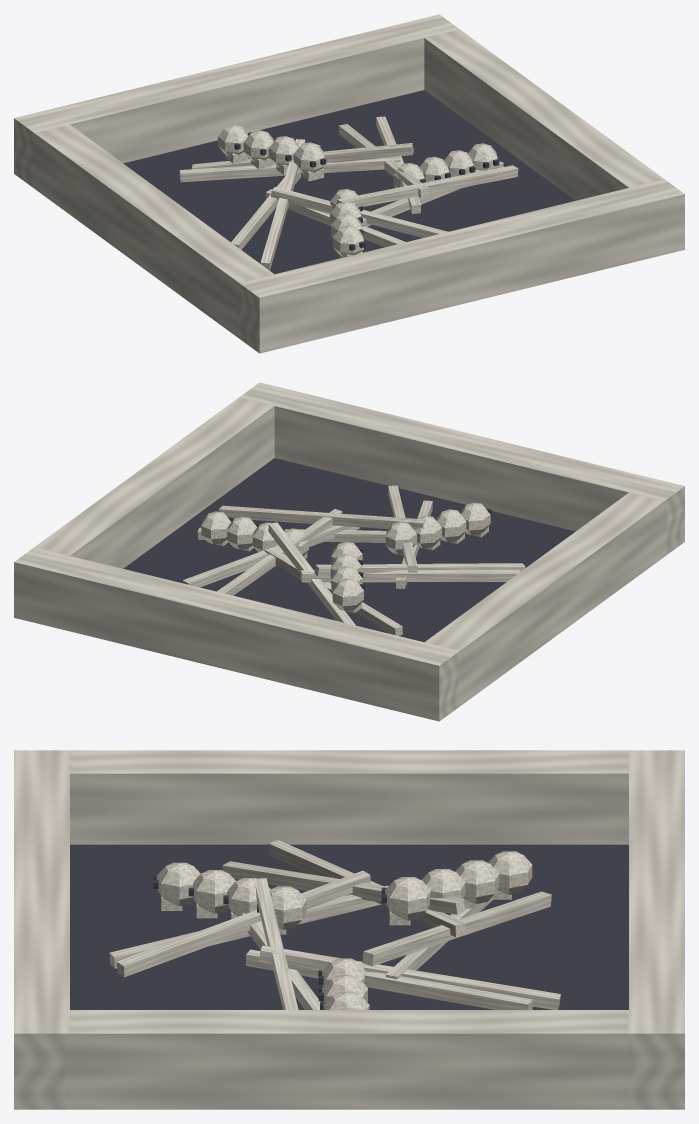
File: vampire-crypt-and-gothic-cathedral-ossuary-pit-15668b09__22998.glb
The picture shows the model from 3 angles, top to bottom: view 1: azimuth 30°, elevation 25°; view 2: azimuth 150°, elevation 25°; view 3: azimuth 270°, elevation 25°; orthographic projection. The views are drawn at different scales.
Parts seen in each view (by area): view 1: ossuary-pit; view 2: ossuary-pit; view 3: ossuary-pit.
Boxes of the visible parts, x1,y1,x2,y2 form: ossuary-pit: (14,14,684,353); ossuary-pit: (14,382,684,721); ossuary-pit: (14,750,684,1109).
Bounding box in the file's own units: 2.4 × 0.3062 × 2.4.
2 materials, 1 textured.
